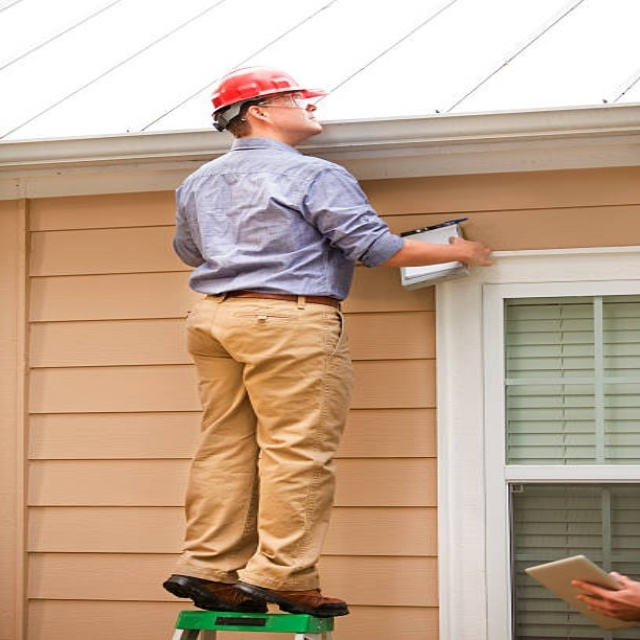Gafas: (254, 92, 315, 111)
Sin_guantes: (572, 571, 639, 624), (442, 232, 504, 271)
Sin_mascara: (296, 107, 328, 131)
